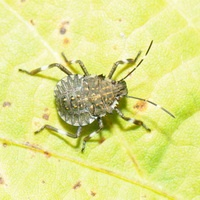insect: (19, 40, 174, 151)
